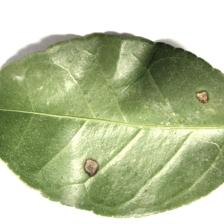canker: (54, 71, 224, 192)
